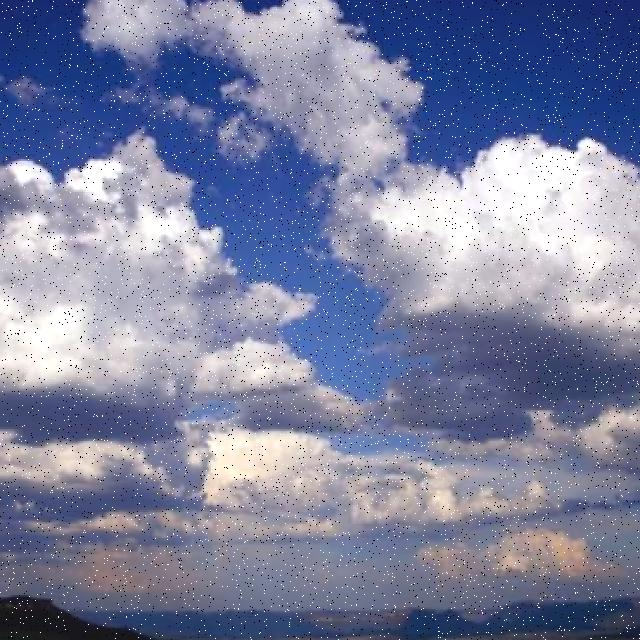Cu: (1, 104, 640, 548)
